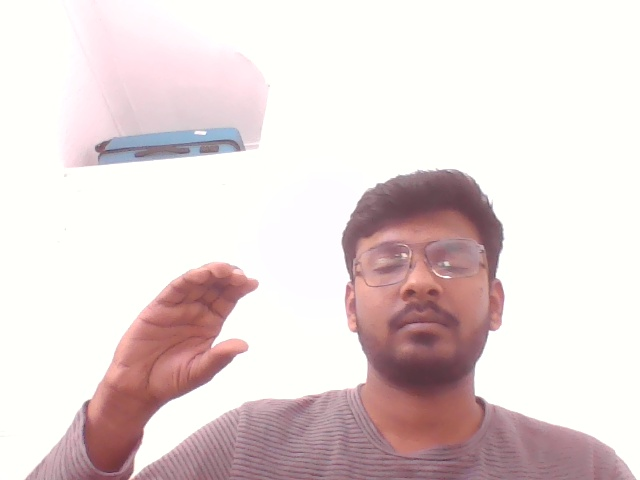No: (74, 198, 279, 418)
